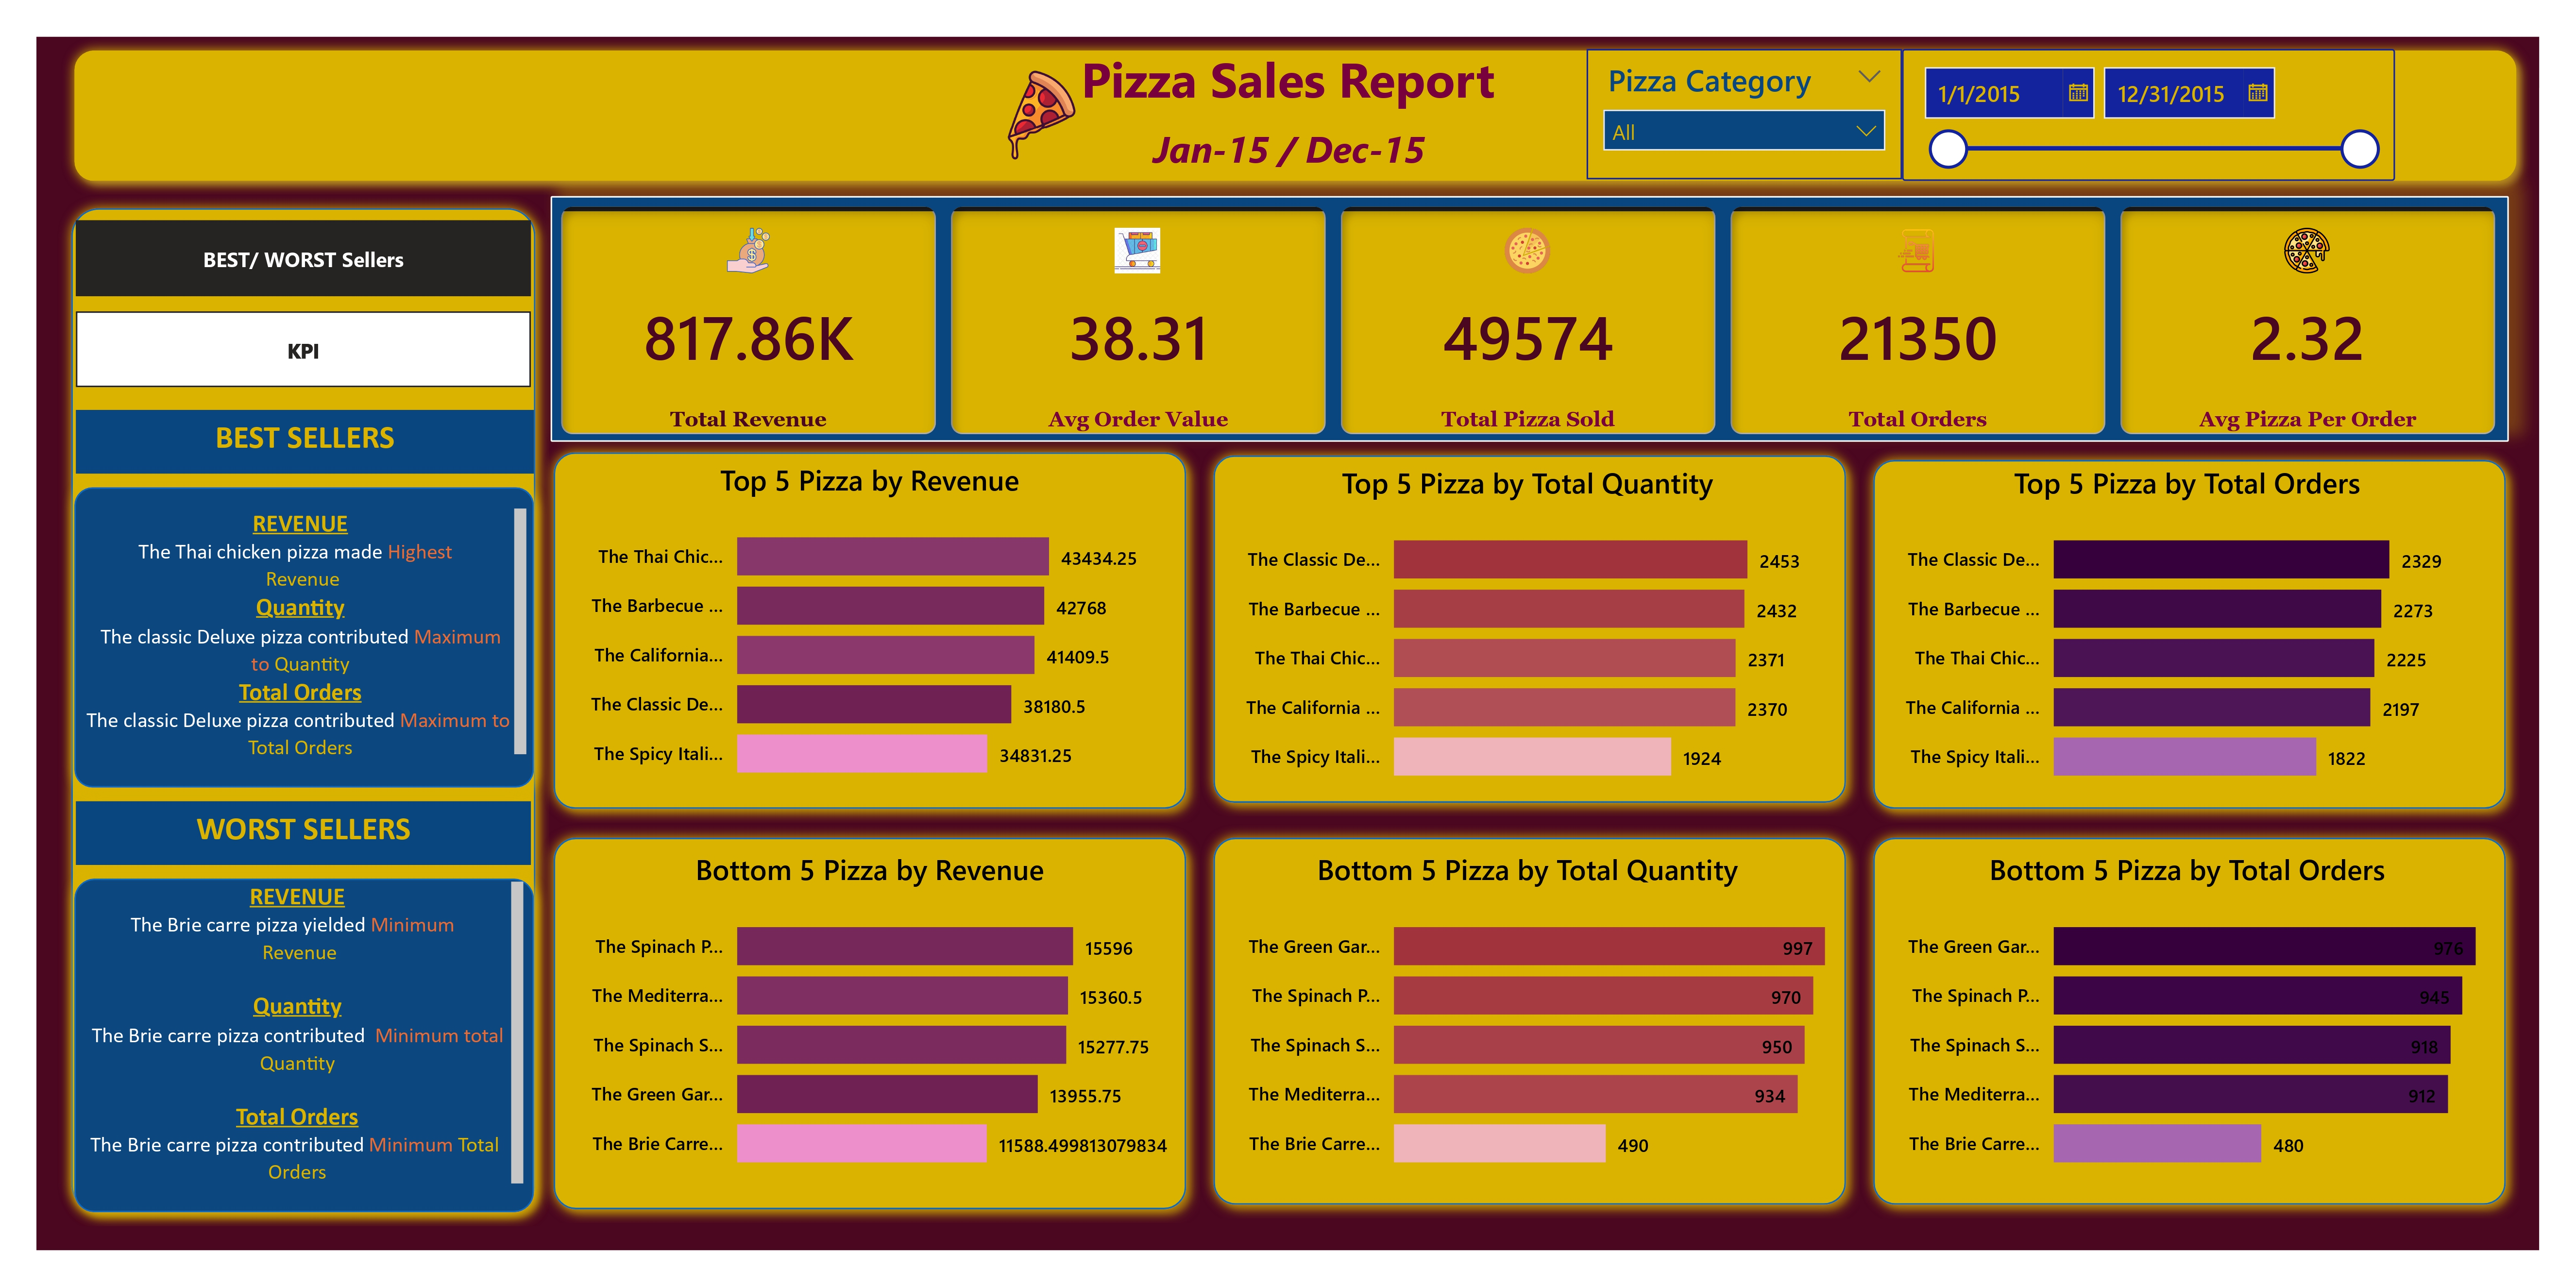

This screenshot's page, from the dashboard's own definition file:
{"tool":"powerbi","page":{"name":"BEST/ WORST Sellers","canvas":[1650,800],"ordinal":1},"visuals":[{"type":"cardVisual","fields":{"Data":["Template.Total Revenue","Template.Avg Order Value","Template.Total Pizza Sold","Template.Total Orders","Template.Avg Pizza Per Order"]},"box":[338.6,105.3,1291.2,161.4],"z":0},{"type":"shape","box":[331.6,264.9,435.1,252.6],"z":1000},{"type":"shape","box":[15.8,0,1628.1,103.5],"z":2000},{"type":"textbox","box":[446,0,758,64],"z":3000},{"type":"textbox","box":[718,52,216,50],"z":4000},{"type":"image","box":[602.5,12.5,115,77.5],"z":5000},{"type":"shape","box":[14,104,324,680],"z":6000},{"type":"textbox","box":[25.9,245.7,302.5,42],"z":7000},{"type":"shape","box":[16,287.7,321,216],"z":8000},{"type":"shape","box":[16,545.7,321,238.3],"z":9000},{"type":"textbox","box":[25.9,503.7,300,42],"z":10000},{"type":"textbox","box":[28,306,300,182],"z":11000},{"type":"textbox","box":[26,552,300,218],"z":12000},{"type":"slicer","fields":{"Values":["Template.pizza_category"]},"box":[1022,8,208,86],"z":13000},{"type":"slicer","fields":{"Values":["Template.order_date"]},"box":[1230,7.5,325,87.5],"z":14000},{"type":"shape","box":[331.6,519.3,435.1,263.2],"z":15000},{"type":"shape","box":[766.7,266.7,435.1,247.4],"z":16000},{"type":"shape","box":[1201.8,270.2,435.1,247.4],"z":17000},{"type":"shape","box":[766.7,519.3,435.1,259.6],"z":18000},{"type":"shape","box":[1201.8,519.3,435.1,259.6],"z":19000},{"type":"barChart","title":"Top 5 Pizza by Revenue","fields":{"Category":["Template.pizza_name"],"Y":["Template.Total Revenue"]},"box":[347.5,278.8,403.8,225],"z":20000},{"type":"barChart","title":"Bottom 5 Pizza by Revenue","fields":{"Category":["Template.pizza_name"],"Y":["Template.Total Revenue"]},"box":[347.5,536.2,403.8,225],"z":21000},{"type":"barChart","title":"Top 5 Pizza by Total Quantity","fields":{"Category":["Template.pizza_name"],"Y":["Sum(Template.quantity)"]},"box":[781.2,281.2,403.8,225],"z":22000},{"type":"barChart","title":"Top 5 Pizza by Total Orders","fields":{"Category":["Template.pizza_name"],"Y":["Template.Total Orders"]},"box":[1216.2,281.2,403.8,225],"z":23000},{"type":"barChart","title":"Bottom 5 Pizza by Total Quantity","fields":{"Category":["Template.pizza_name"],"Y":["Sum(Template.quantity)"]},"box":[781.2,536.2,403.8,225],"z":24000},{"type":"barChart","title":"Bottom 5 Pizza by Total Orders","fields":{"Category":["Template.pizza_name"],"Y":["Template.Total Orders"]},"box":[1216.2,536.2,403.8,225],"z":25000},{"type":"pageNavigator","box":[25.7,121.4,300,50],"z":26000},{"type":"pageNavigator","box":[25.7,180.7,300,50],"z":27000}]}

Visuals, with their boxes in screenshot pixels (x1, y1, x2, y2):
cardVisual - Template.Total Revenue x Template.Avg Order Value: (550, 196, 2509, 441)
shape: (540, 439, 1200, 822)
shape: (60, 36, 2530, 193)
textbox: (713, 36, 1863, 134)
textbox: (1126, 116, 1453, 191)
image: (950, 55, 1125, 173)
shape: (58, 194, 549, 1226)
textbox: (76, 409, 535, 473)
shape: (61, 473, 548, 801)
shape: (61, 864, 548, 1226)
textbox: (76, 801, 531, 864)
textbox: (79, 501, 534, 777)
textbox: (76, 874, 531, 1205)
slicer - Template.pizza_category: (1587, 49, 1902, 179)
slicer - Template.order_date: (1902, 48, 2395, 181)
shape: (540, 825, 1200, 1224)
shape: (1200, 441, 1860, 817)
shape: (1860, 446, 2520, 822)
shape: (1200, 825, 1860, 1219)
shape: (1860, 825, 2520, 1219)
"Top 5 Pizza by Revenue" barChart: (563, 459, 1176, 801)
"Bottom 5 Pizza by Revenue" barChart: (563, 850, 1176, 1192)
"Top 5 Pizza by Total Quantity" barChart: (1221, 463, 1834, 805)
"Top 5 Pizza by Total Orders" barChart: (1881, 463, 2494, 805)
"Bottom 5 Pizza by Total Quantity" barChart: (1221, 850, 1834, 1192)
"Bottom 5 Pizza by Total Orders" barChart: (1881, 850, 2494, 1192)
pageNavigator: (75, 220, 530, 297)
pageNavigator: (75, 311, 530, 387)
